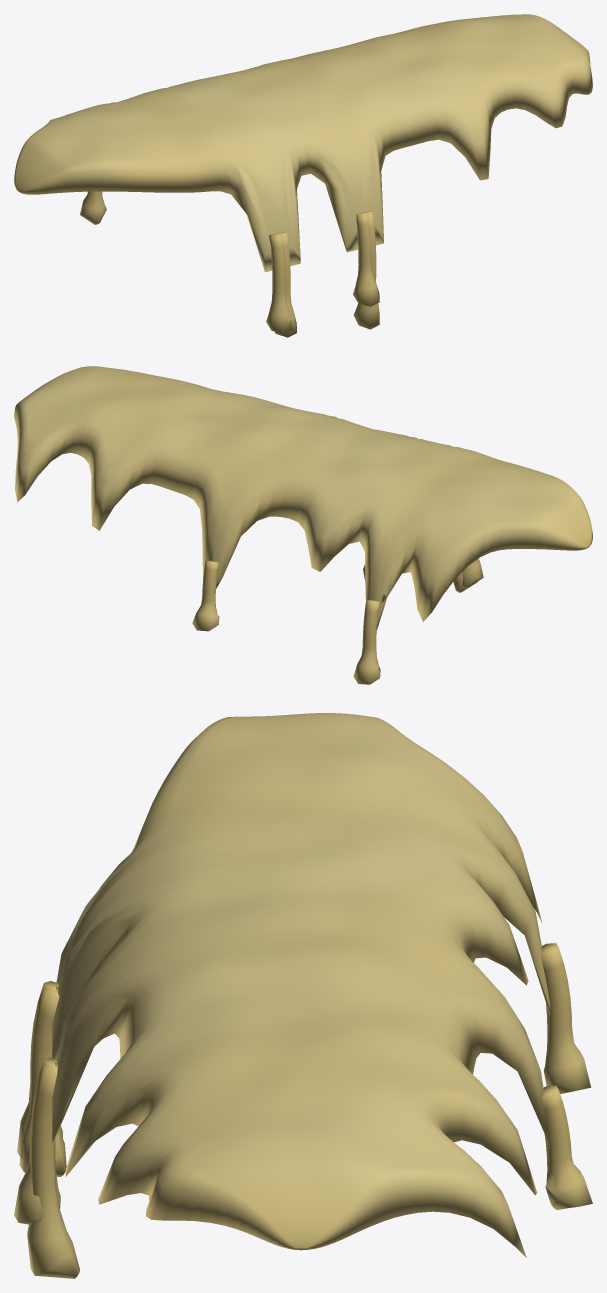
The model's file is dog-fondue.glb.
The picture shows the model from 3 angles, top to bottom: view 1: azimuth 30°, elevation 25°; view 2: azimuth 150°, elevation 25°; view 3: azimuth 270°, elevation 25°; orthographic projection. The views are drawn at different scales.
Parts seen in each view (by area): view 1: dog_fondue_queijos; view 2: dog_fondue_queijos; view 3: dog_fondue_queijos.
Part boxes in pixels (box(x1,y1,x2,y2)): dog_fondue_queijos: box(14, 14, 592, 337); dog_fondue_queijos: box(14, 366, 592, 684); dog_fondue_queijos: box(14, 713, 592, 1278).
Bounding box in the file's own units: 0.196 × 0.0655 × 0.0951.
